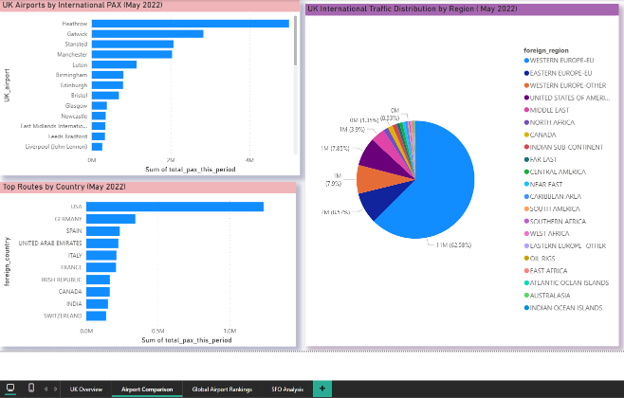

What the dashboard file says about the page in this screenshot:
{"tool":"powerbi","page":{"name":"Airport Comparison","canvas":[1280,720],"ordinal":1},"visuals":[{"type":"clusteredBarChart","title":"UK Airports by International PAX (May 2022)","fields":{"Category":["CAA_Routes.UK_airport"],"Y":["Sum(CAA_Routes.total_pax_this_period)"]},"box":[0,0,614.7,359.9],"z":0},{"type":"barChart","title":"Top Routes by Country (May 2022)","fields":{"Category":["CAA_Routes.foreign_country"],"Y":["Sum(CAA_Routes.total_pax_this_period)"]},"box":[0,372.5,606.9,337.5],"z":1000},{"type":"pieChart","title":"UK International Traffic Distribution by Region ( May 2022)","fields":{"Category":["CAA_Routes.foreign_region"],"Y":["Sum(CAA_Routes.total_pax_this_period)"]},"box":[625.4,7.8,642.9,702.2],"z":2000}]}

Visuals, with their boxes on the page's 1280x720 design canvas (x1, y1, x2, y2). These are canvas units, not pixel positions in the 624x398 screenshot, which may show the page scaled, cropped or inside an application window:
"UK Airports by International PAX (May 2022)" clusteredBarChart: box(0, 0, 615, 360)
"Top Routes by Country (May 2022)" barChart: box(0, 372, 607, 710)
"UK International Traffic Distribution by Region ( May 2022)" pieChart: box(625, 8, 1268, 710)
